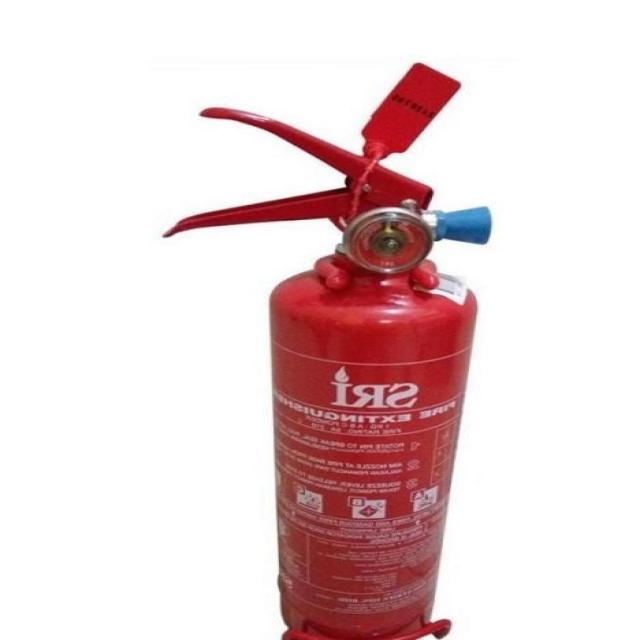fire_extinguisher: (156, 57, 499, 639)
